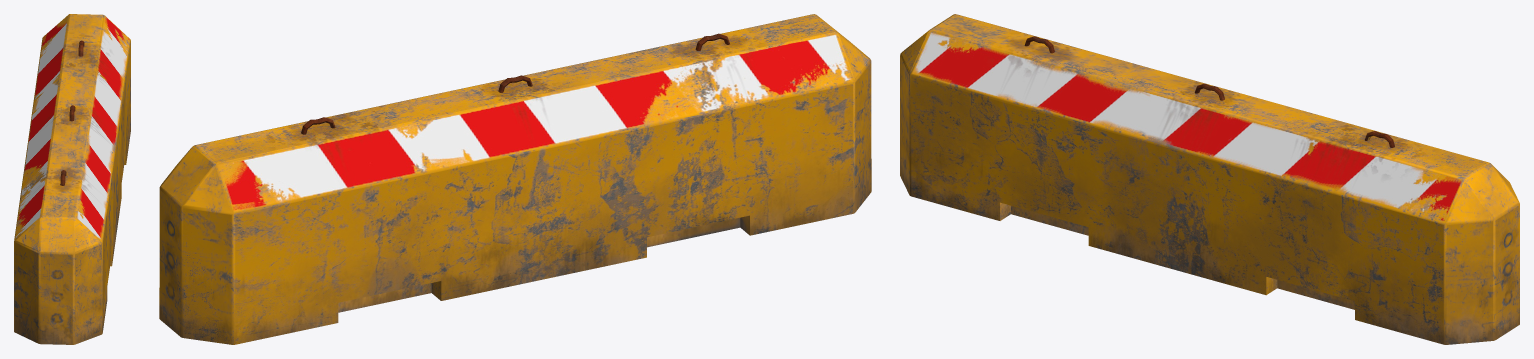
File: ParedcitaHormigon_02.glb
3 renders of one model, left to right at view 1: azimuth 30°, elevation 25°; view 2: azimuth 150°, elevation 25°; view 3: azimuth 270°, elevation 25°, orthographic. The views are drawn at different scales.
Parts seen in each view (by area): view 1: Object_17; view 2: Object_17; view 3: Object_17.
Part boxes in pixels (left/top/right/bottom): Object_17: left=14, top=14, right=130, bottom=344; Object_17: left=159, top=14, right=871, bottom=344; Object_17: left=900, top=14, right=1519, bottom=344.
Size of the model in its own units: 1.66 by 0.6697 by 2.29.
Materials: 1 (1 with a texture image).
